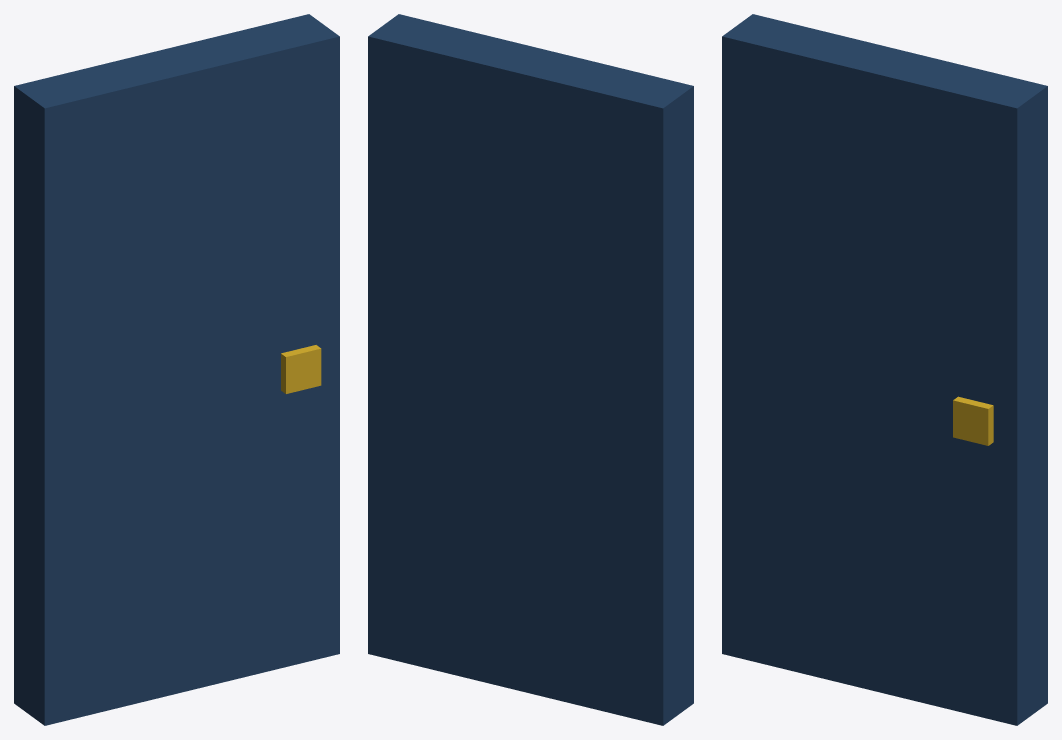
Rendered from security_door.obj.
3 views of the same model, side by side, from view 1: azimuth 30°, elevation 25°; view 2: azimuth 150°, elevation 25°; view 3: azimuth 330°, elevation 25° (orthographic).
Visible parts, largest first — view 1: security_door; view 2: security_door; view 3: security_door.
Boxes of the visible parts, left/top/right/bottom form: security_door: left=14, top=14, right=339, bottom=725; security_door: left=368, top=14, right=693, bottom=725; security_door: left=722, top=14, right=1047, bottom=725.
Bounding box in the file's own units: 1 × 2 × 0.21.
